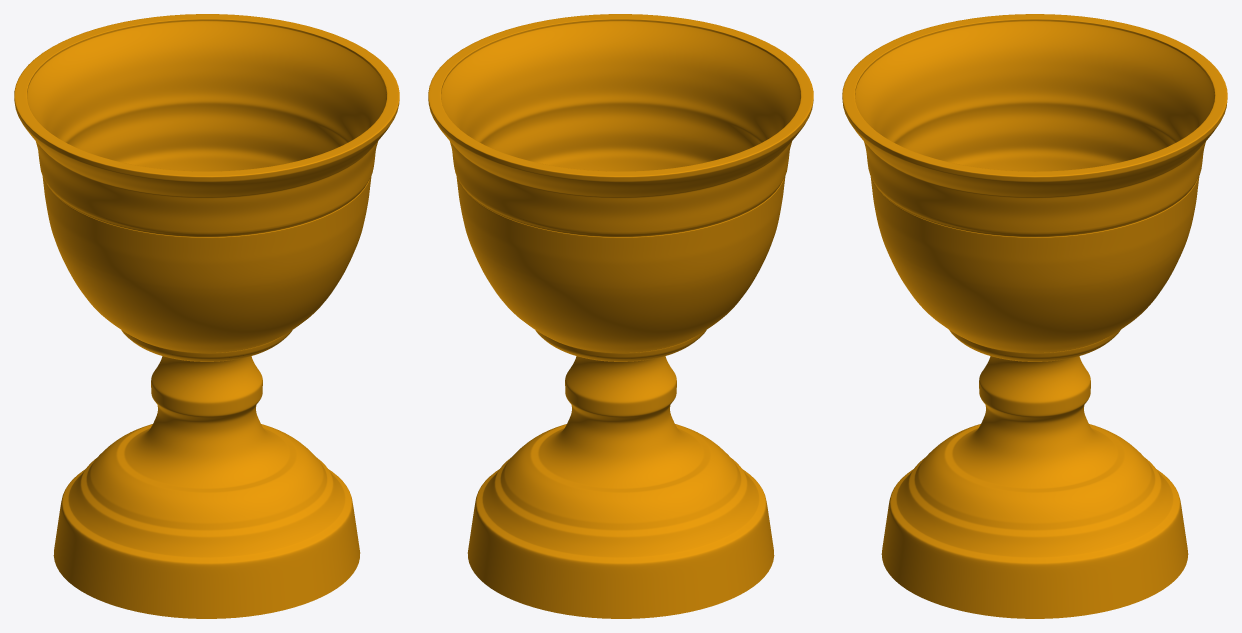
File: Kelch.fbx
3 views of the same model, side by side, from view 1: azimuth 30°, elevation 25°; view 2: azimuth 150°, elevation 25°; view 3: azimuth 270°, elevation 25° (orthographic).
Parts seen in each view (by area): view 1: Plane; view 2: Plane; view 3: Plane.
Boxes of the visible parts, <box> form: Plane: <box>14,14,399,618</box>; Plane: <box>428,14,813,618</box>; Plane: <box>842,14,1227,618</box>.
Size of the model in its own units: 330 by 434 by 330.
